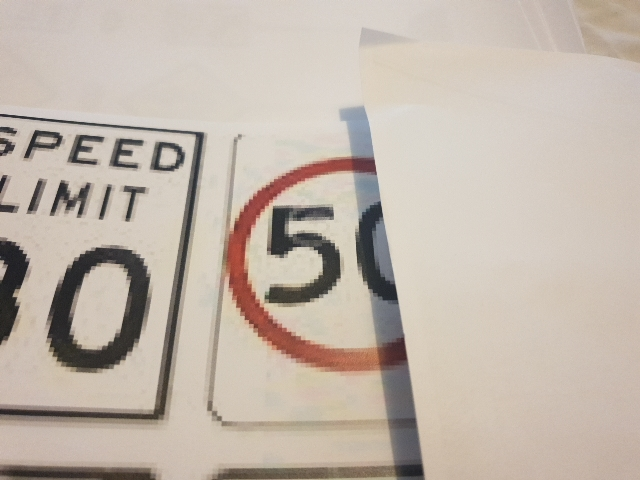sp50: (232, 167, 492, 376)
